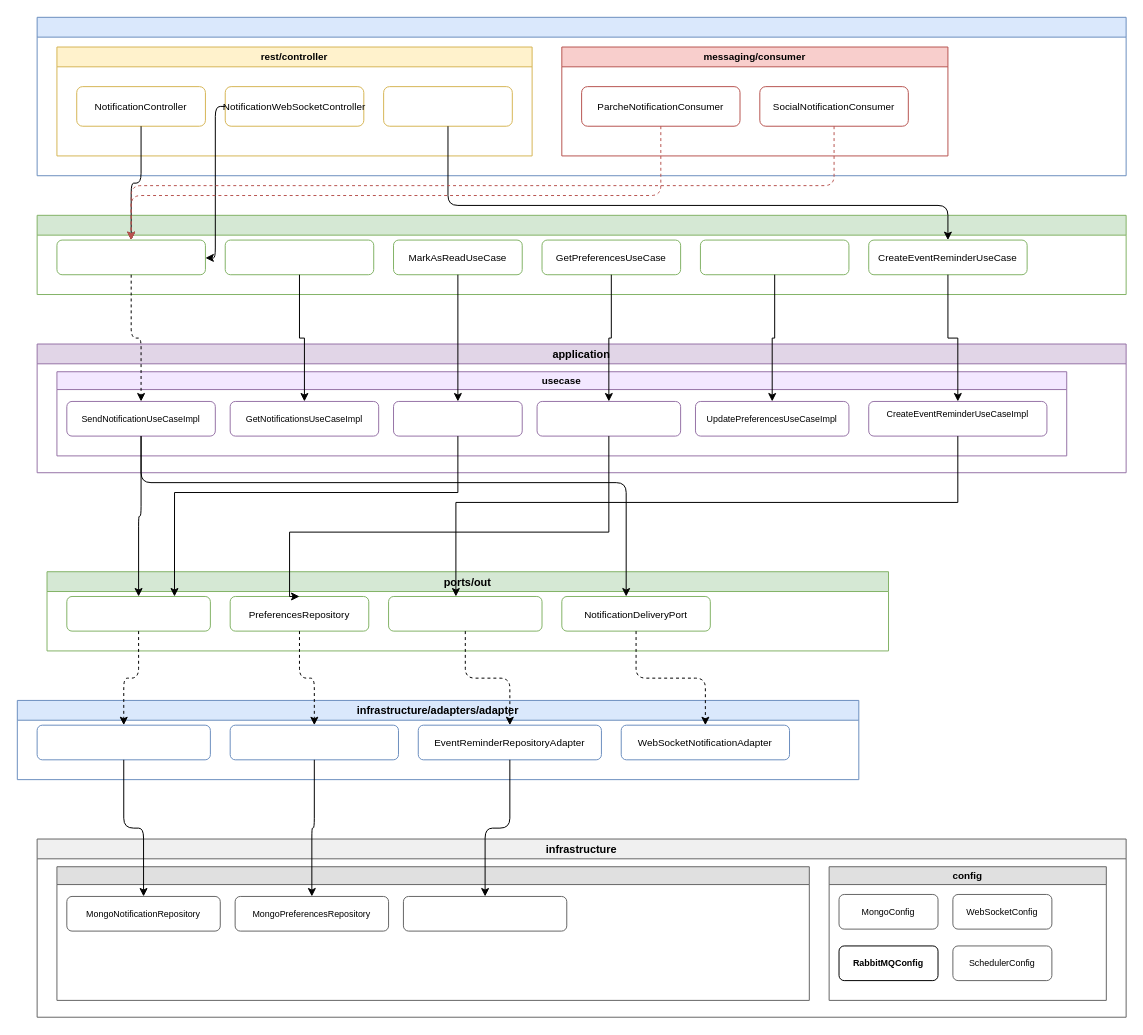
This 1143x1035 diagram has some shape labels left out. Each missing label, with the box of its shape:
entrypoints: (36, 16, 1126, 176)
EventReminderController: (383, 86, 512, 126)
EventReminderRepository: (388, 595, 542, 631)
GetNotificationsUseCase: (224, 239, 374, 275)
GetPreferencesUseCaseImpl: (536, 400, 681, 436)
MarkAsReadUseCaseImpl: (393, 400, 522, 436)
MongoEventReminderRepository: (402, 895, 567, 931)
NotificationRepository: (66, 595, 210, 631)
NotificationRepositoryAdapter: (36, 724, 210, 760)
persistence: (56, 866, 809, 1000)
ports/in: (36, 214, 1126, 295)
PreferencesRepositoryAdapter: (229, 724, 398, 760)
SendNotificationUseCase: (56, 239, 205, 275)
UpdatePreferencesUseCase: (699, 239, 849, 275)
